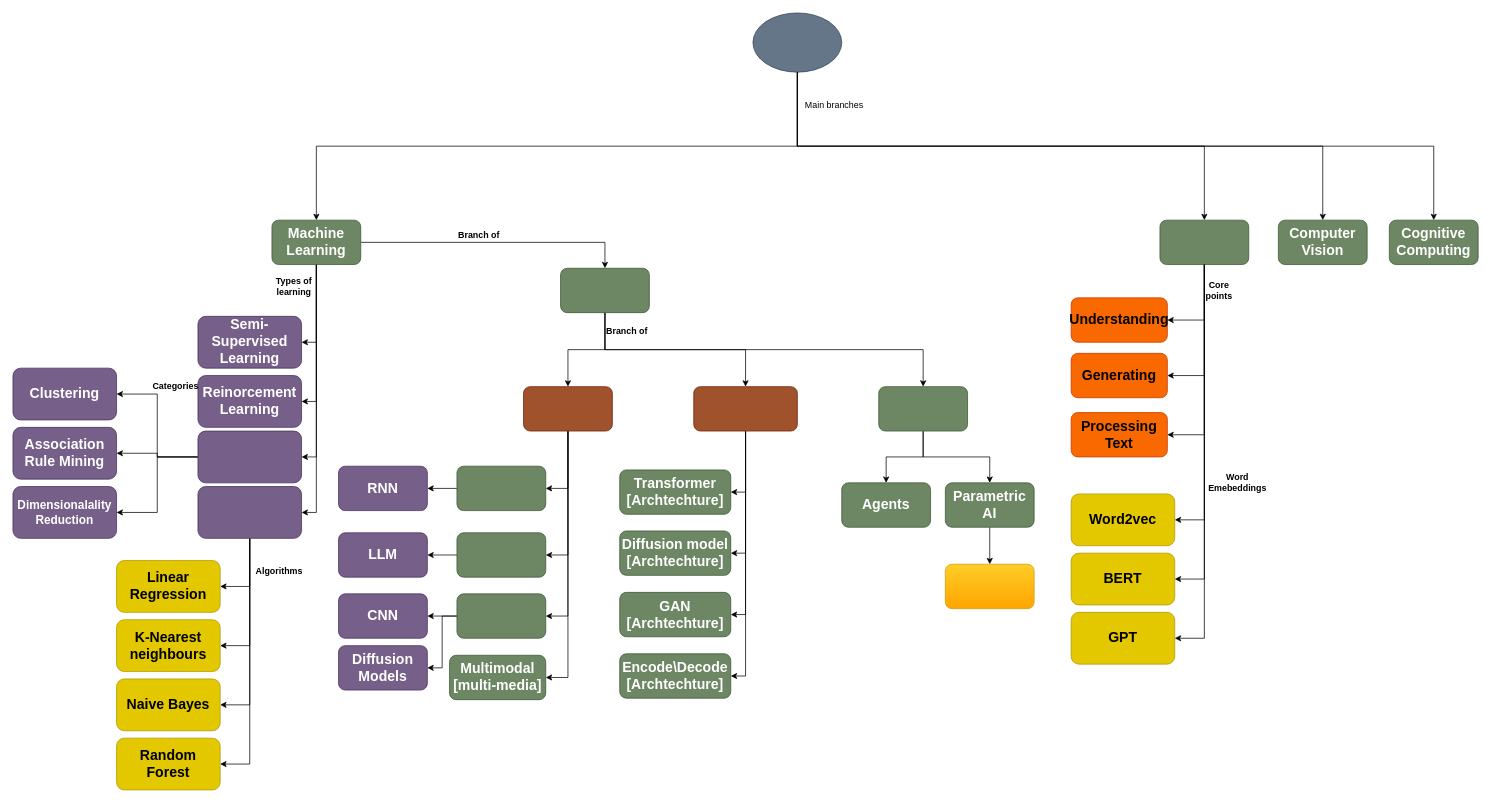
The diagram is 1491 pixels wide and 803 high, and some of its shapes have lost their labels. Here are the shapes that lost their labels. From the top down, the centre of each, then its label:
At (x=797, y=42): "AI".
At (x=1204, y=242): "NLP".
At (x=604, y=290): "Neural Networks".
At (x=567, y=408): "By media type".
At (x=745, y=408): "Architechtures".
At (x=923, y=408): "Generative AI".
At (x=249, y=456): "Unsupervised Learning".
At (x=501, y=488): "Audio".
At (x=249, y=512): "Supervised Learning".
At (x=501, y=554): "Text".
At (x=989, y=586): "RAG".
At (x=501, y=615): "Images".
